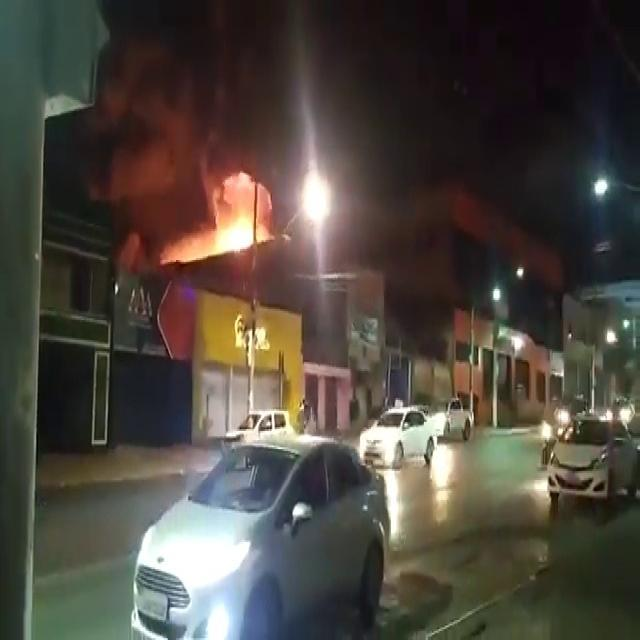Fire: (208, 223, 256, 244)
